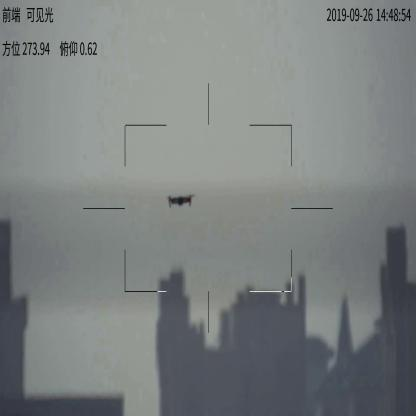uav: (164, 192, 198, 210)
